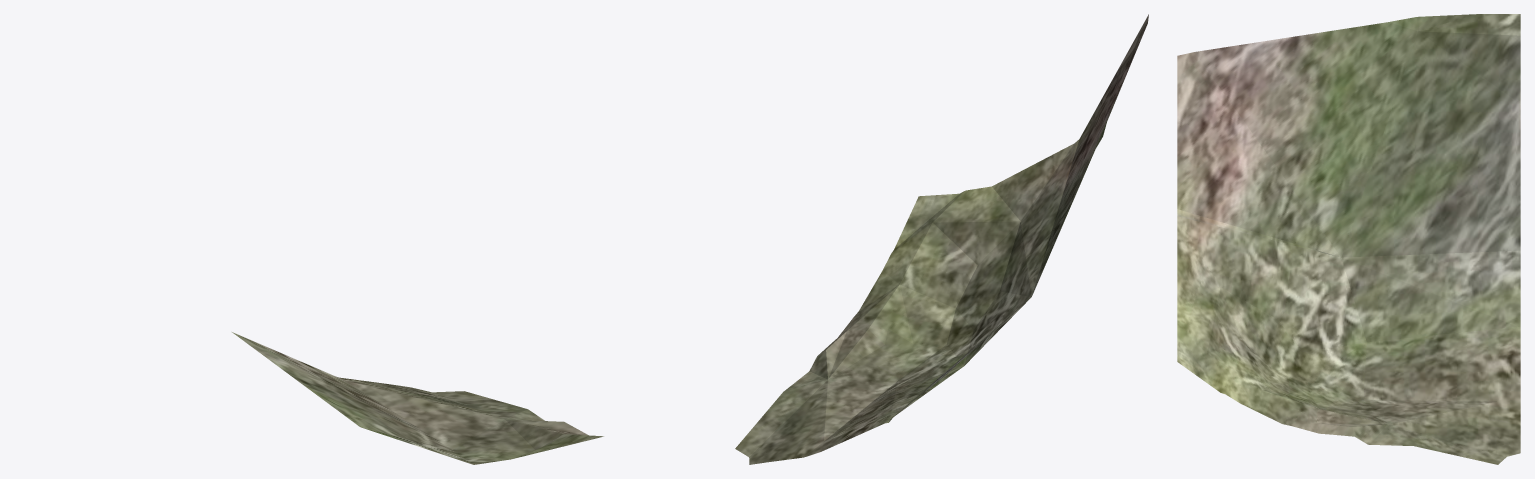
3 renders of one model, left to right at view 1: azimuth 30°, elevation 25°; view 2: azimuth 150°, elevation 25°; view 3: azimuth 270°, elevation 25°, orthographic. The views are drawn at different scales.
Bounding box in the file's own units: 2.84 × 2.95 × 2.95.
Materials: 4 (4 with a texture image).
